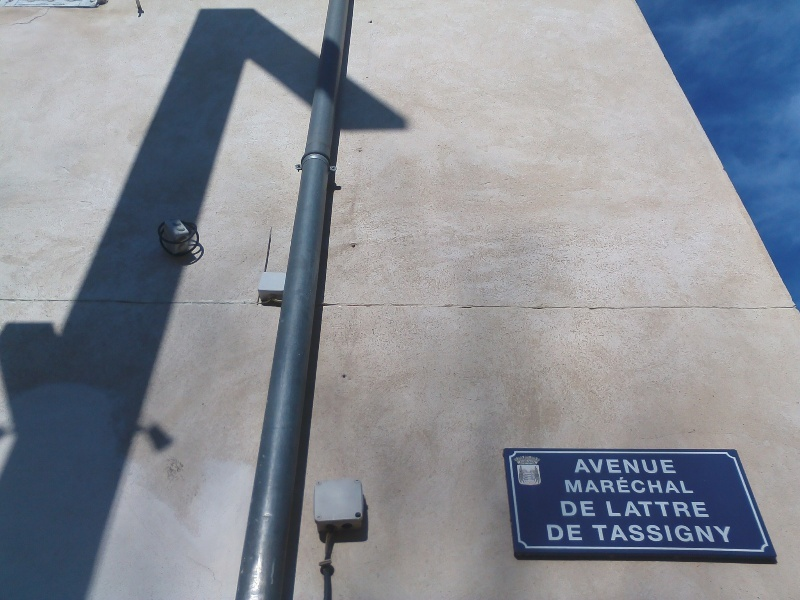text: (593, 524, 608, 544), (609, 524, 624, 544), (625, 524, 640, 544), (641, 524, 656, 544), (657, 524, 672, 544), (673, 524, 688, 544), (689, 524, 704, 544), (705, 524, 720, 544), (721, 524, 736, 544), (577, 477, 592, 495), (593, 477, 608, 495), (609, 477, 624, 495), (625, 477, 640, 495), (641, 477, 656, 495), (657, 477, 672, 495), (673, 477, 688, 495), (561, 500, 576, 518), (577, 500, 592, 518), (545, 524, 560, 542), (561, 524, 576, 542), (577, 458, 592, 475), (593, 458, 608, 475), (609, 458, 624, 475), (625, 458, 640, 475), (641, 458, 656, 475), (657, 458, 672, 475), (609, 501, 624, 518), (625, 501, 640, 518), (641, 501, 656, 518), (657, 501, 672, 518), (673, 501, 688, 518), (689, 501, 704, 518), (563, 477, 576, 495), (705, 501, 715, 518), (577, 524, 584, 542), (689, 477, 695, 495), (673, 458, 679, 475), (593, 500, 597, 518), (605, 501, 608, 518), (591, 524, 592, 544)
